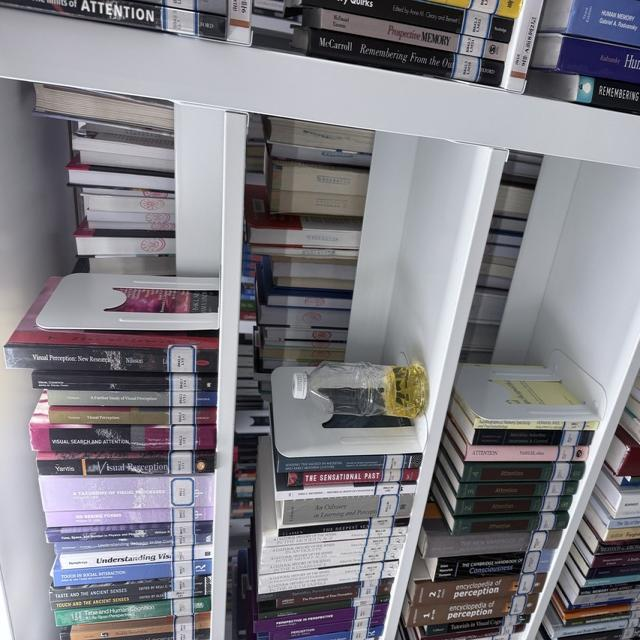low: (293, 362, 428, 417)
